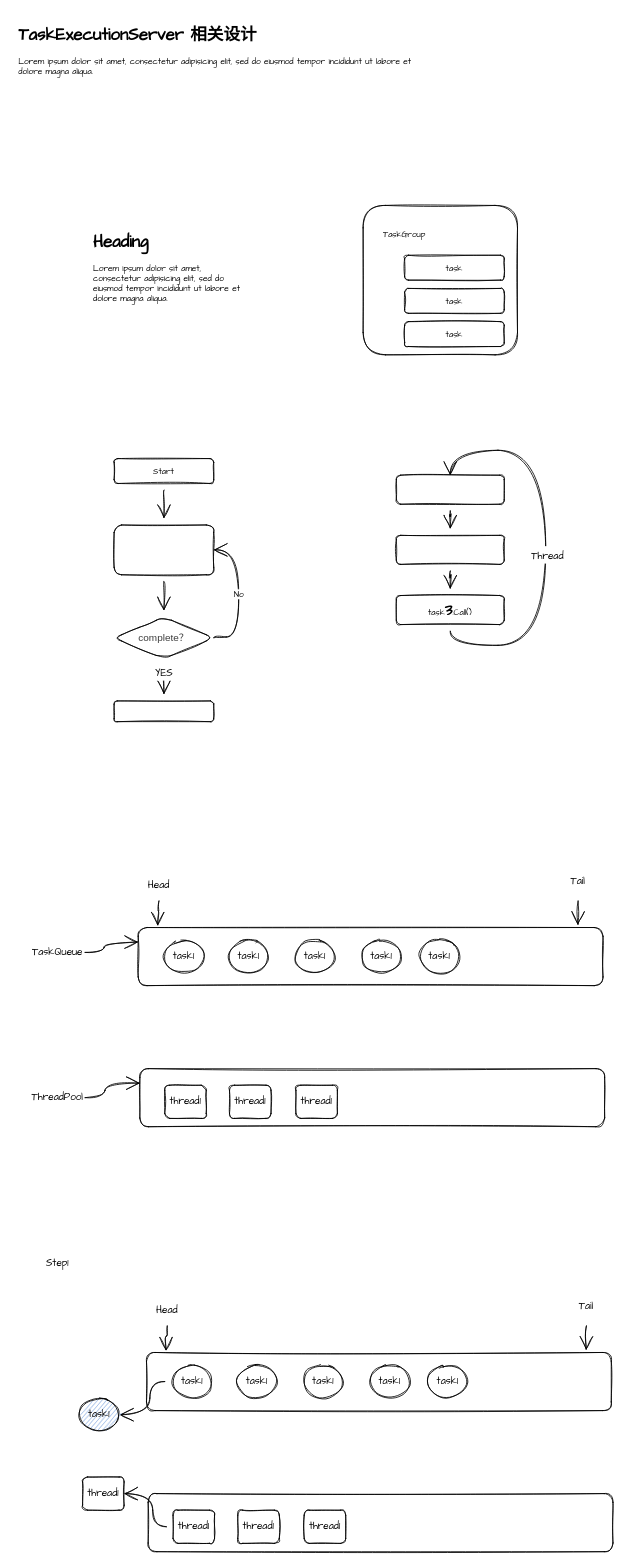
Some shapes in this 627 by 1566 pixel diagram are drawn without their labels. The centre of each missing label's shape, as x and y in pixels:
"Call()" belongs at (163,549).
"End" belongs at (163,711).
"task 1 .Call()" belongs at (449,489).
"task 2 .Call()" belongs at (449,549).
